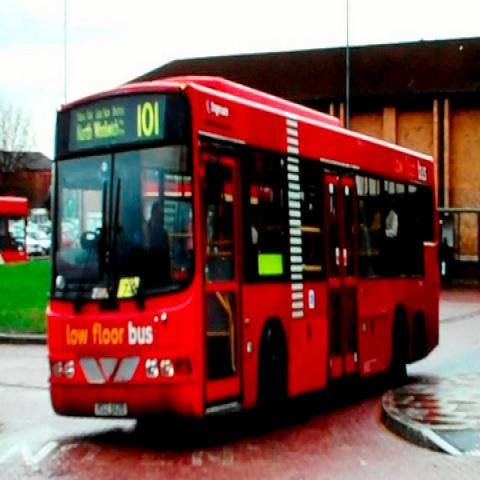bus: (45, 74, 443, 436), (0, 198, 27, 265)
car: (8, 218, 52, 258), (28, 208, 52, 238)
